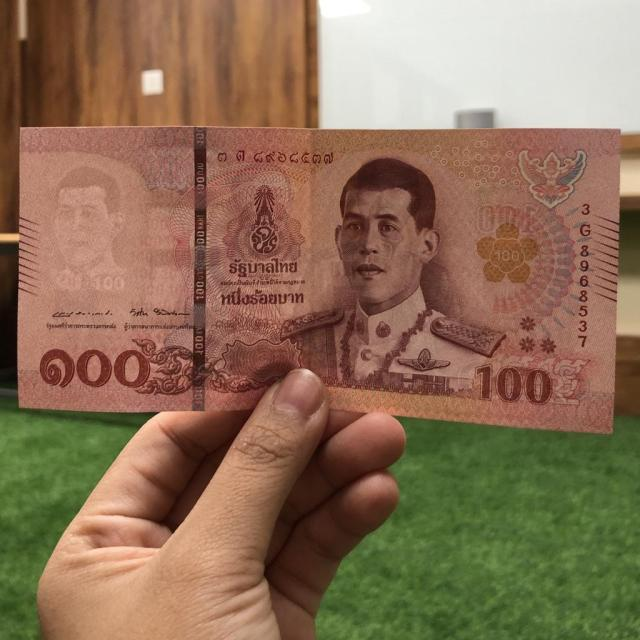THAI100: (18, 126, 619, 434)
